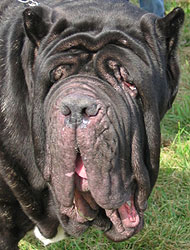neapolitan_mastiff: (0, 0, 185, 250)
